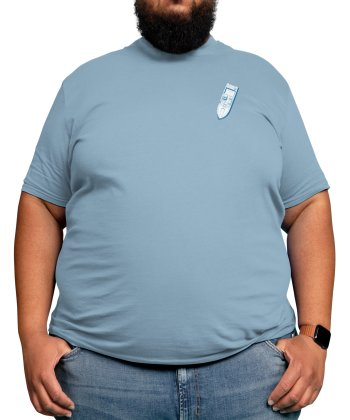design: (212, 79, 240, 122)
